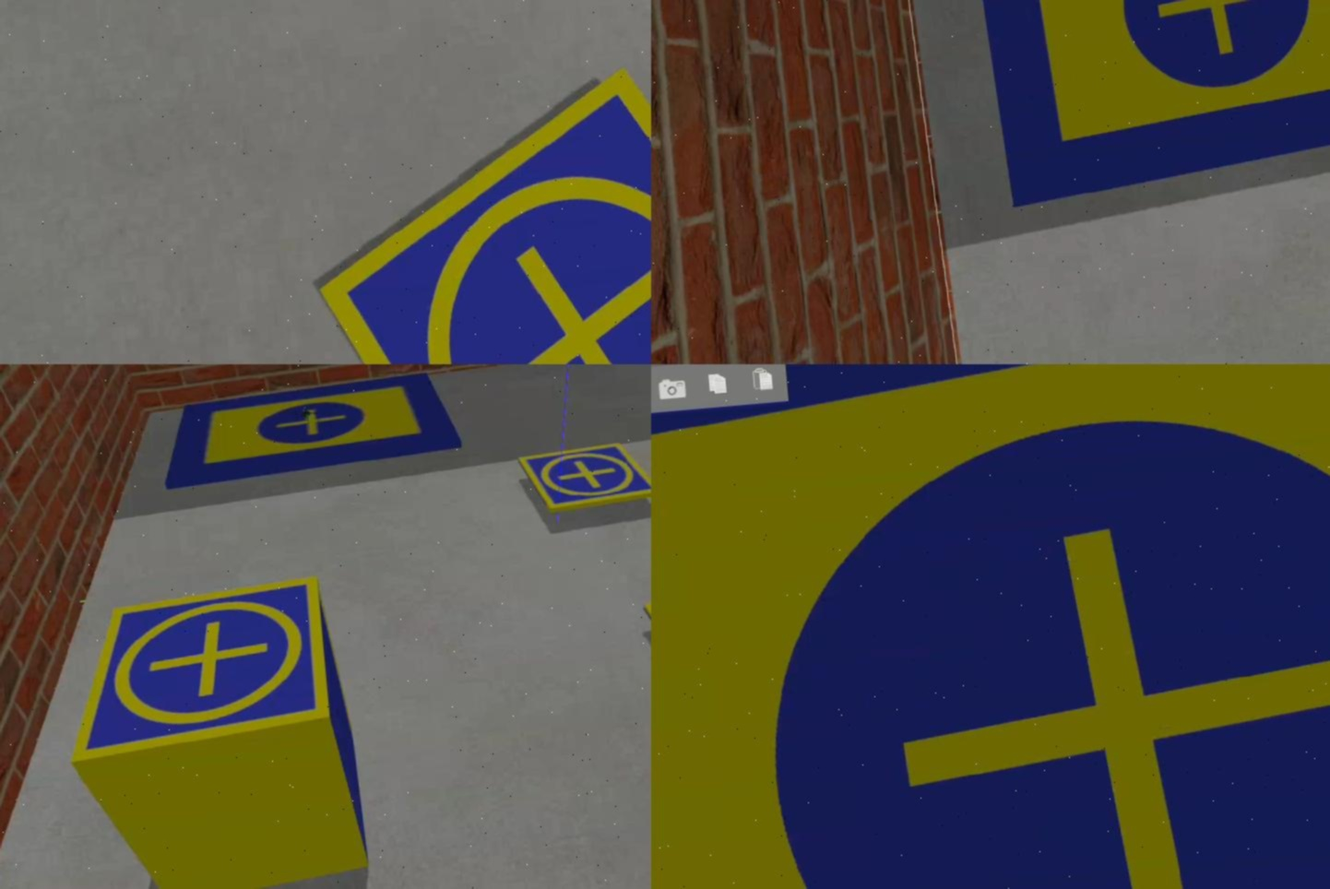large_base: (652, 365, 1330, 889), (965, 1, 1330, 209), (157, 373, 466, 491)
small_base: (301, 49, 652, 365), (53, 573, 333, 765), (517, 441, 652, 514)
